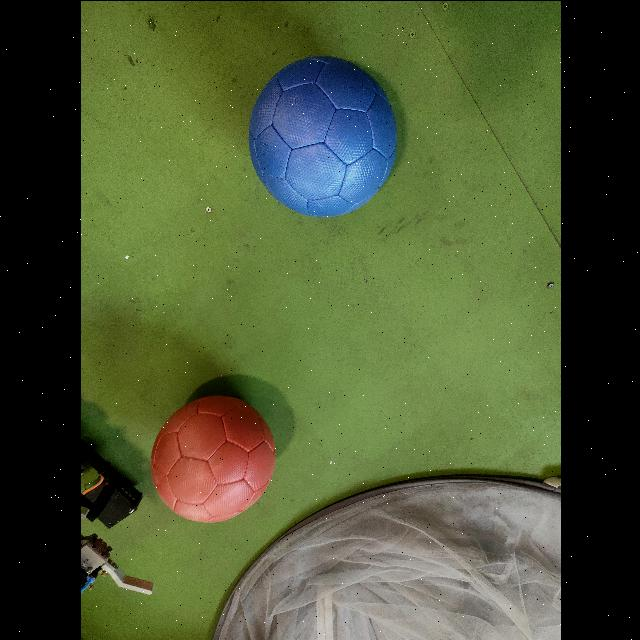B: (248, 54, 396, 218)
R: (149, 392, 273, 524)
